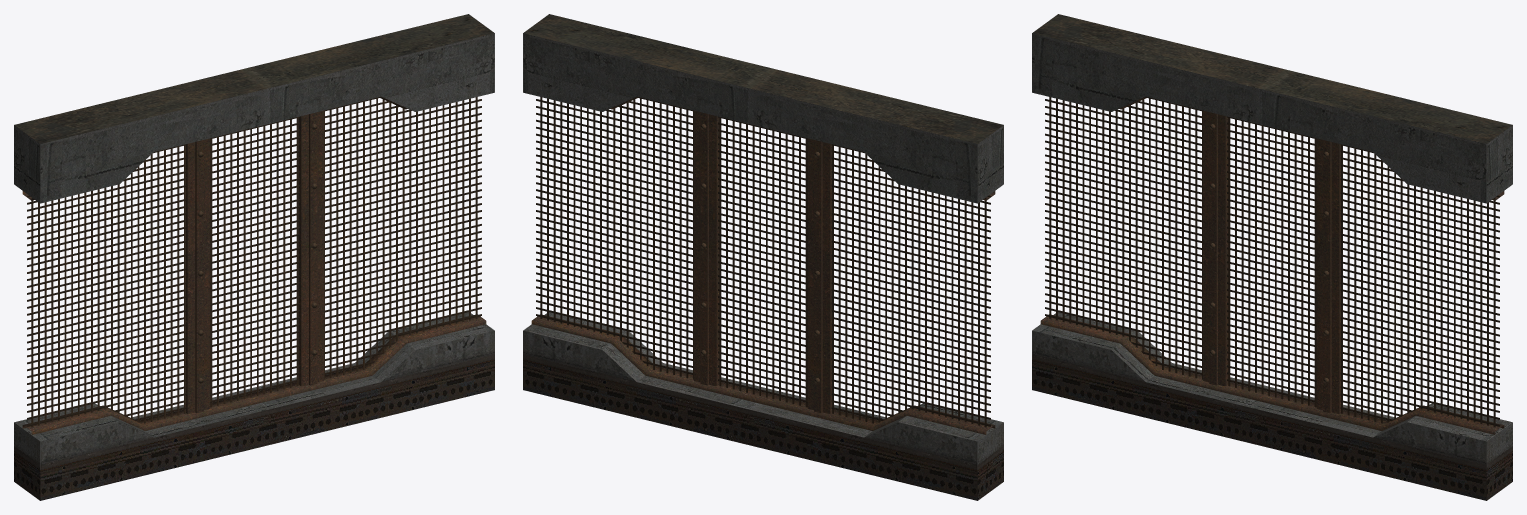
The model's file is wall_rtx_2.glb.
3 views of the same model, side by side, from view 1: azimuth 30°, elevation 25°; view 2: azimuth 150°, elevation 25°; view 3: azimuth 330°, elevation 25° (orthographic).
Visible parts, largest first — view 1: wall_rtx_2; view 2: wall_rtx_2; view 3: wall_rtx_2.
Boxes of the visible parts, x1,y1,x2,y2 form: wall_rtx_2: (14,14,494,500); wall_rtx_2: (523,14,1003,500); wall_rtx_2: (1032,14,1512,500).
Size of the model in its own units: 4 by 3 by 0.4.
4 materials, 4 textured.
